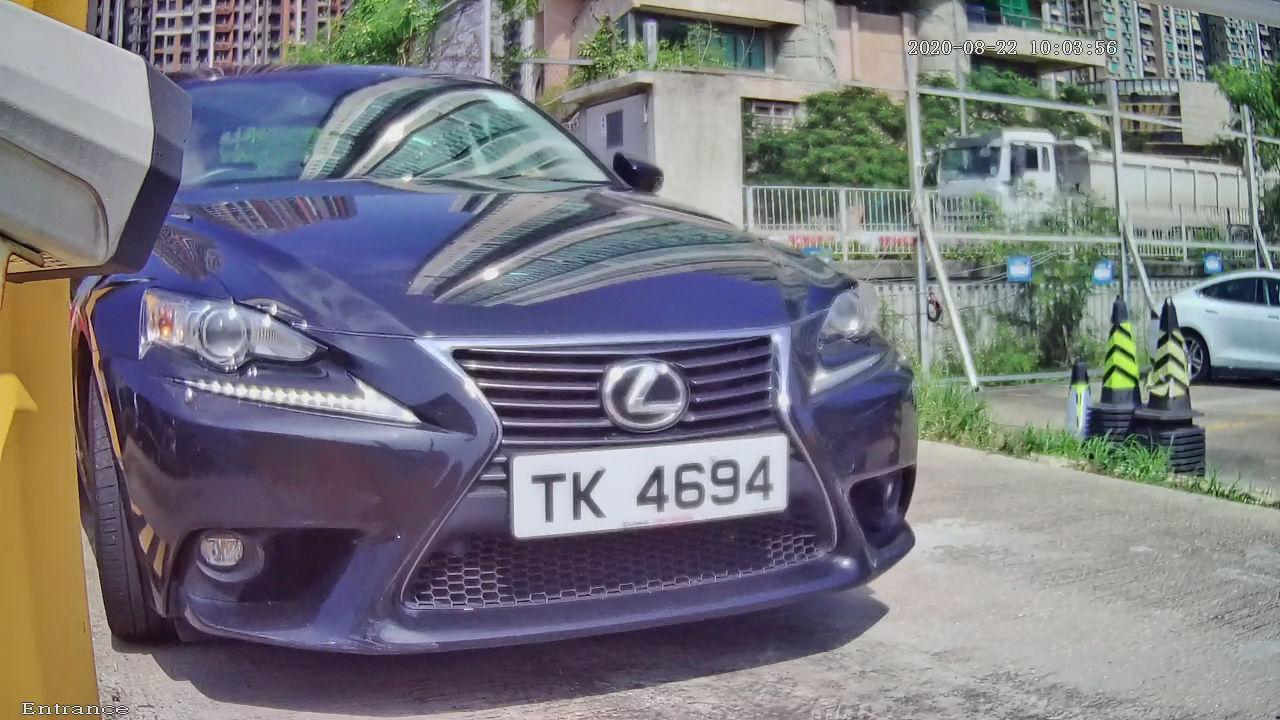Car: (12, 7, 972, 714)
License Plate: (473, 401, 837, 569)
